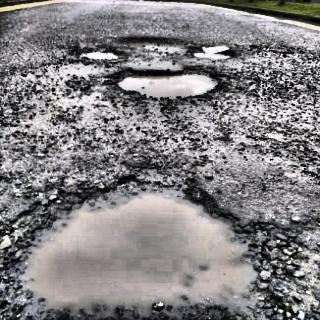pothole: (11, 171, 268, 320), (98, 63, 222, 106), (190, 42, 239, 62), (76, 46, 119, 64)
